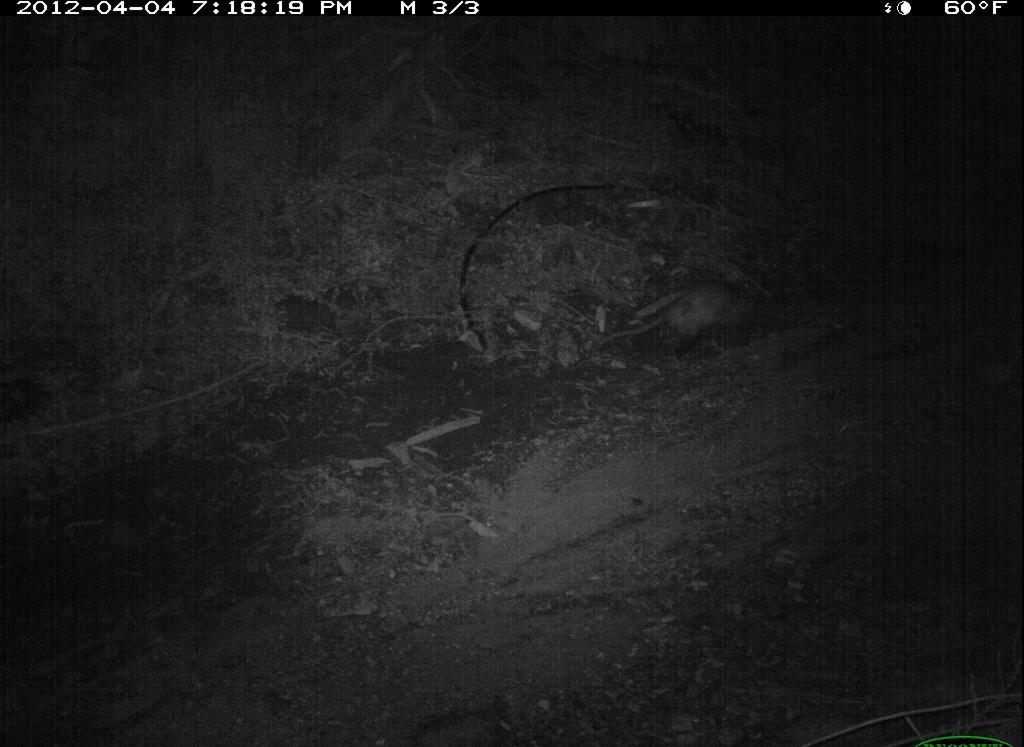opossum: (614, 259, 767, 379)
